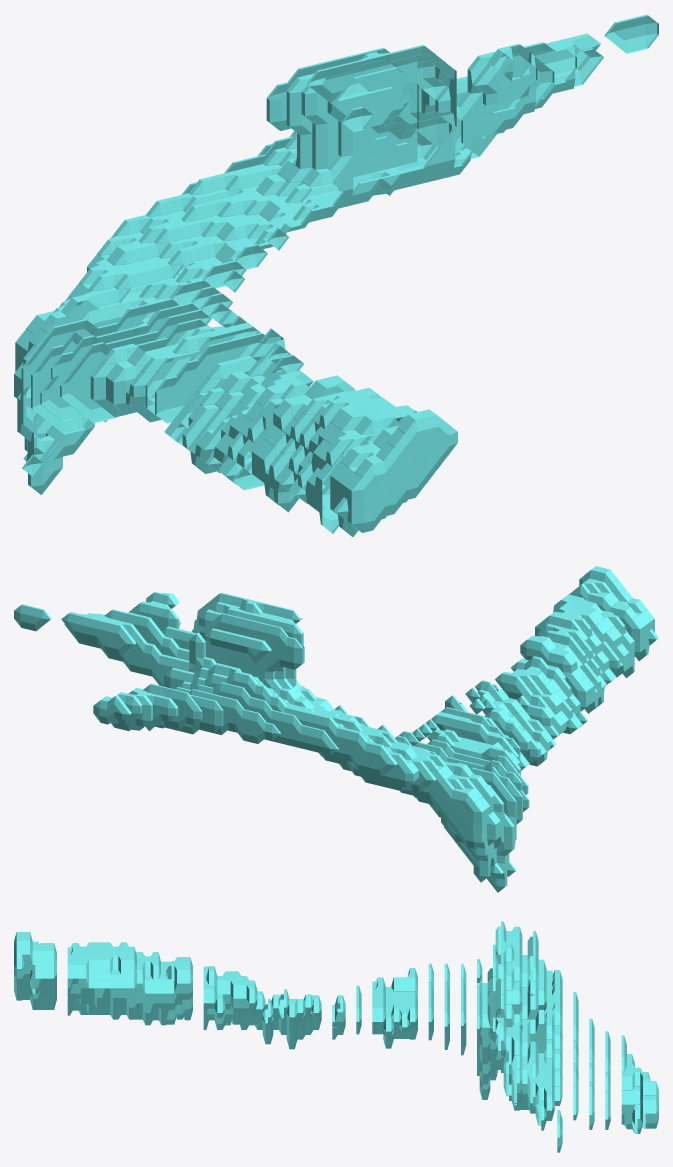
The model's file is SVV_BWM-DL01.gltf.
3 renders of one model, top to bottom at view 1: azimuth 30°, elevation 25°; view 2: azimuth 150°, elevation 25°; view 3: azimuth 270°, elevation 25°, orthographic. The views are drawn at different scales.
Visible parts, largest first — view 1: BWM-DL01; view 2: BWM-DL01; view 3: BWM-DL01.
Boxes of the visible parts, box(x1,y1,x2,y2) form: BWM-DL01: box(14, 14, 658, 536); BWM-DL01: box(14, 566, 658, 892); BWM-DL01: box(14, 921, 658, 1152).
Size of the model in its own units: 32781 by 15870 by 30859.
